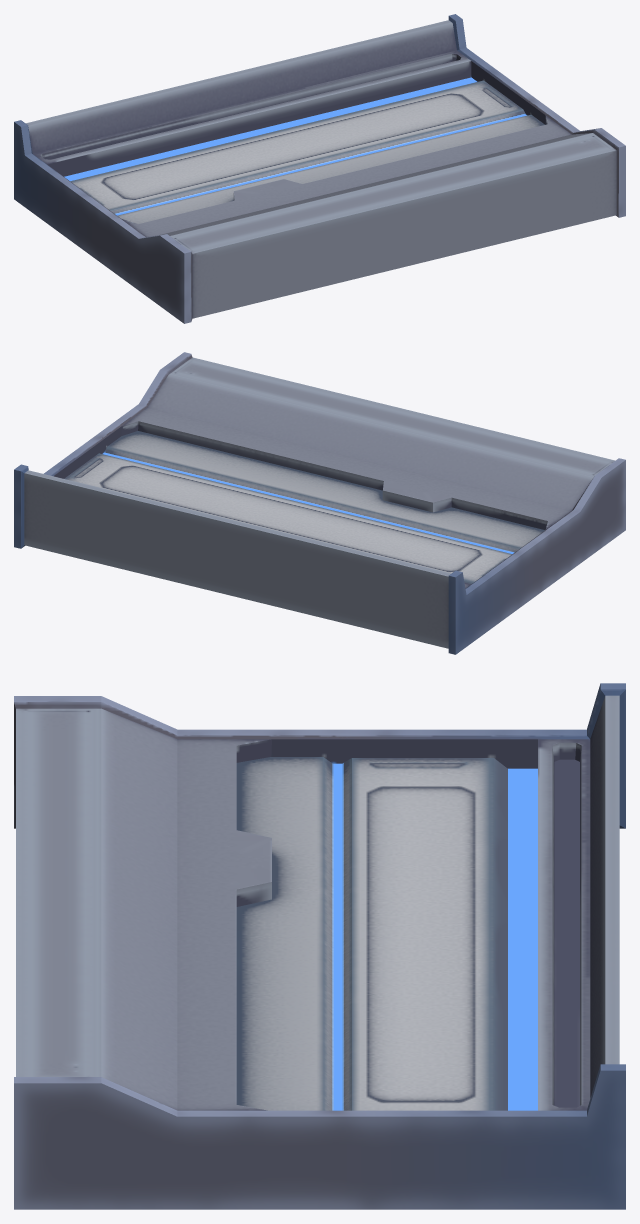
Rendered from hallway2_low.fbx.
3 renders of one model, top to bottom at view 1: azimuth 30°, elevation 25°; view 2: azimuth 150°, elevation 25°; view 3: azimuth 270°, elevation 25°, orthographic. The views are drawn at different scales.
Parts seen in each view (by area): view 1: hallway_2_low; view 2: hallway_2_low; view 3: hallway_2_low.
Part boxes in pixels (x1,y1,x2,y2): hallway_2_low: [14, 14, 625, 323]; hallway_2_low: [14, 352, 625, 654]; hallway_2_low: [14, 683, 625, 1209].
Size of the model in its own units: 600 by 101 by 401.
